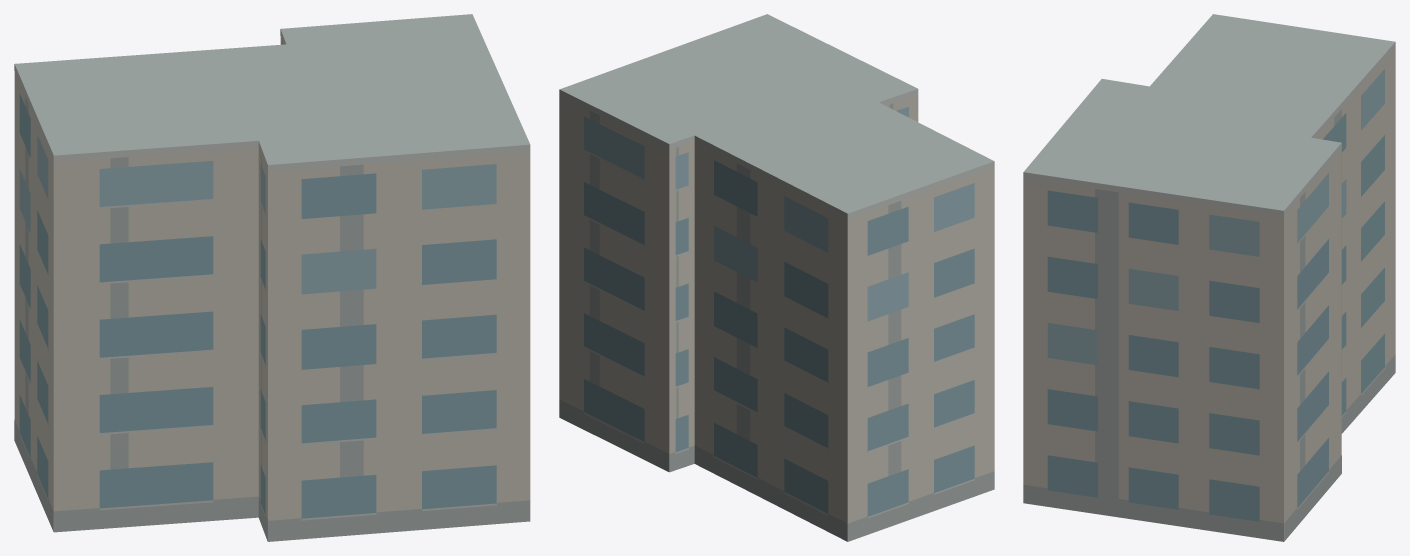
Rendered from survey-upis-32943187.glb.
The picture shows the model from 3 angles, left to right: view 1: azimuth 30°, elevation 25°; view 2: azimuth 150°, elevation 25°; view 3: azimuth 270°, elevation 25°; orthographic projection. The views are drawn at different scales.
Visible parts, largest first — view 1: survey-upis-32943187.tmp; view 2: survey-upis-32943187.tmp; view 3: survey-upis-32943187.tmp.
Part boxes in pixels (x1,y1,x2,y2): survey-upis-32943187.tmp: (14, 14, 530, 541); survey-upis-32943187.tmp: (559, 14, 994, 541); survey-upis-32943187.tmp: (1023, 14, 1395, 541).
Size of the model in its own units: 16.97 by 13.3 by 13.56.
